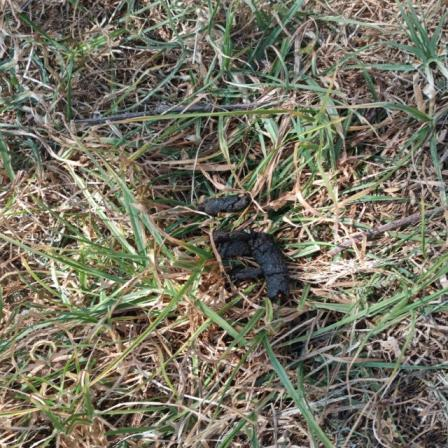dog-poop: (203, 193, 295, 299)
